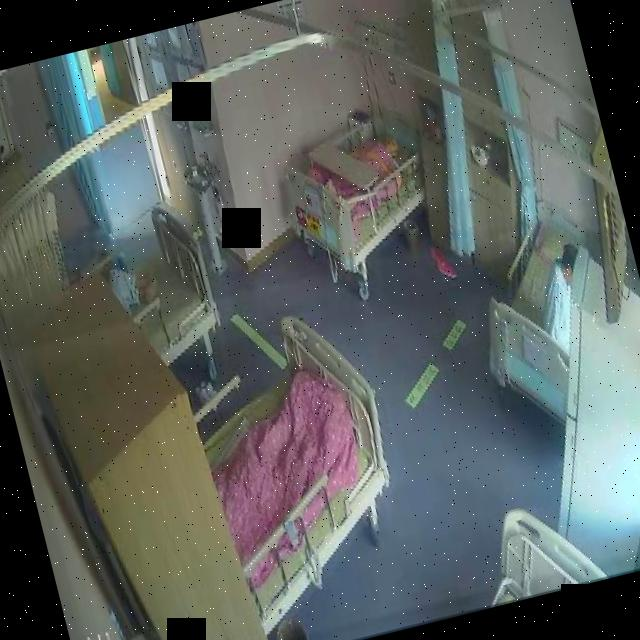bed: (178, 308, 412, 607), (456, 196, 620, 438), (272, 104, 444, 280), (98, 196, 228, 370)
patient: (525, 237, 601, 355)
sit: (524, 236, 602, 356)
